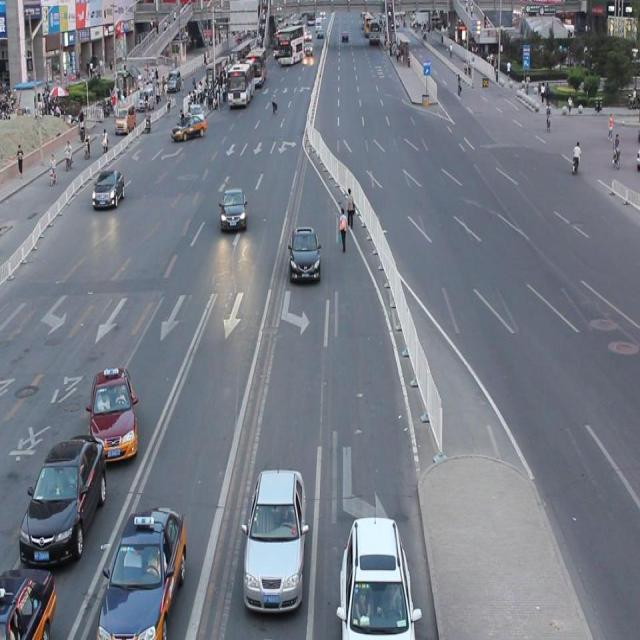car: (95, 501, 188, 640), (20, 431, 106, 565), (338, 512, 416, 640), (242, 466, 307, 614), (89, 366, 139, 464), (1, 565, 56, 640), (288, 224, 321, 284), (93, 167, 126, 210), (220, 186, 248, 235)
